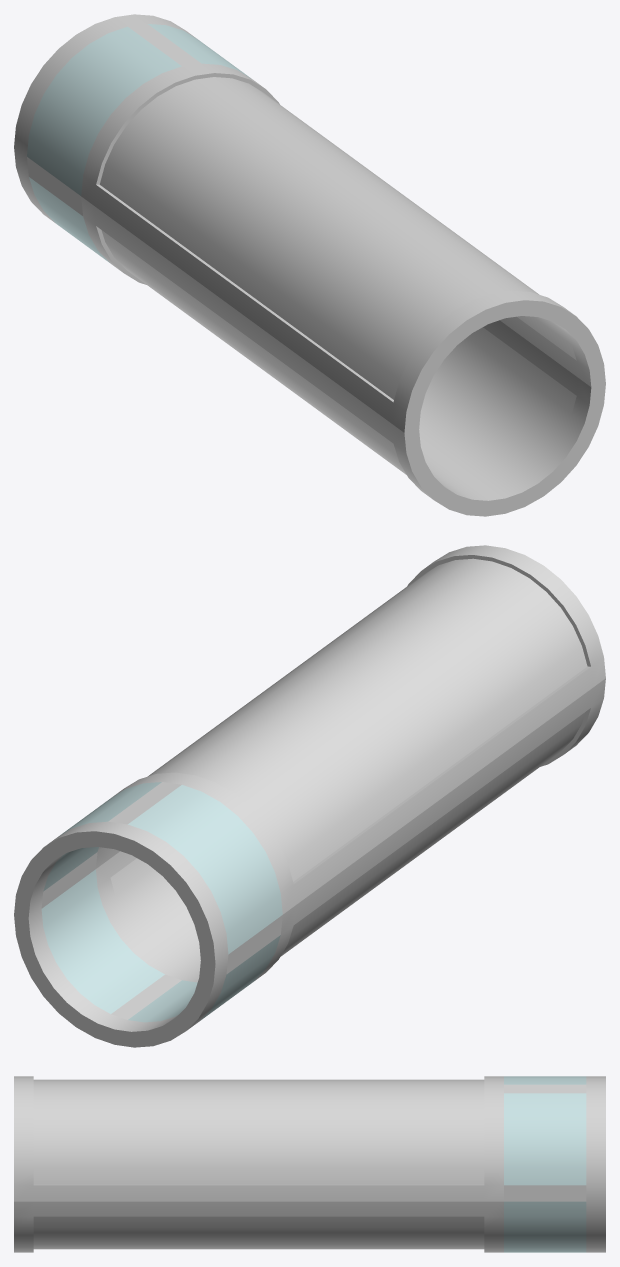
File: large tube glass.fbx
3 renders of one model, top to bottom at view 1: azimuth 30°, elevation 25°; view 2: azimuth 150°, elevation 25°; view 3: azimuth 270°, elevation 25°, orthographic. The views are drawn at different scales.
Parts seen in each view (by area): view 1: Cylinder.048, Cylinder.066, Cylinder.024, Cylinder.025, Cylinder.049, Cylinder.027; view 2: Cylinder.048, Cylinder.049, Cylinder.027, Cylinder.024, Cylinder.066, Cylinder.025; view 3: Cylinder.048, Cylinder.066, Cylinder.024, Cylinder.049, Cylinder.025, Cylinder.027.
Boxes of the visible parts, x1,y1,x2,y2 form: Cylinder.048: (99,77,576,399); Cylinder.066: (101,230,576,491); Cylinder.024: (81,63,605,432); Cylinder.025: (81,197,605,516); Cylinder.049: (27,24,251,262); Cylinder.027: (14,14,201,223); Cylinder.048: (148,558,587,881); Cylinder.049: (41,782,282,1022); Cylinder.027: (14,782,282,1047); Cylinder.024: (96,545,605,914); Cylinder.066: (110,712,585,971); Cylinder.025: (96,678,605,982); Cylinder.048: (33,1079,484,1184); Cylinder.066: (33,1216,484,1249); Cylinder.024: (14,1076,503,1201); Cylinder.049: (504,1076,586,1252); Cylinder.025: (14,1201,503,1252); Cylinder.027: (504,1076,605,1252).
Size of the model in its own units: 900 by 900 by 3020.
